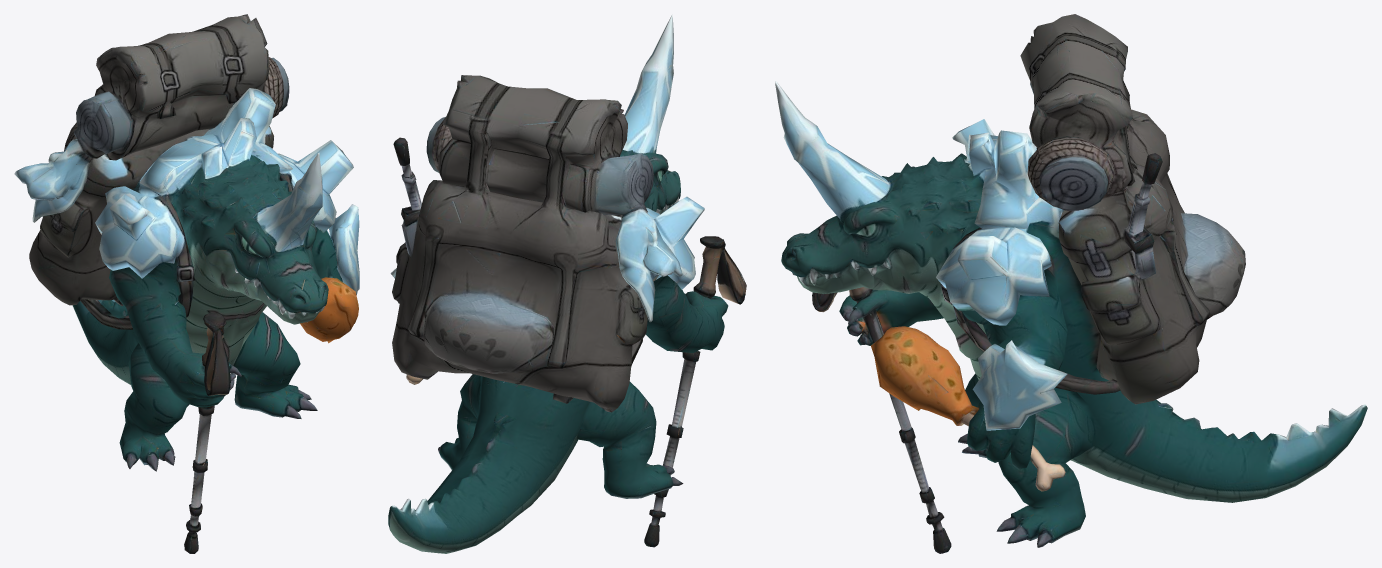
File: inicial-agua-3.glb
The picture shows the model from 3 angles, left to right: view 1: azimuth 30°, elevation 25°; view 2: azimuth 150°, elevation 25°; view 3: azimuth 270°, elevation 25°; orthographic projection. The views are drawn at different scales.
Bounding box in the file's own units: 0.626 × 0.9473 × 0.957.
1 material, 1 textured.
